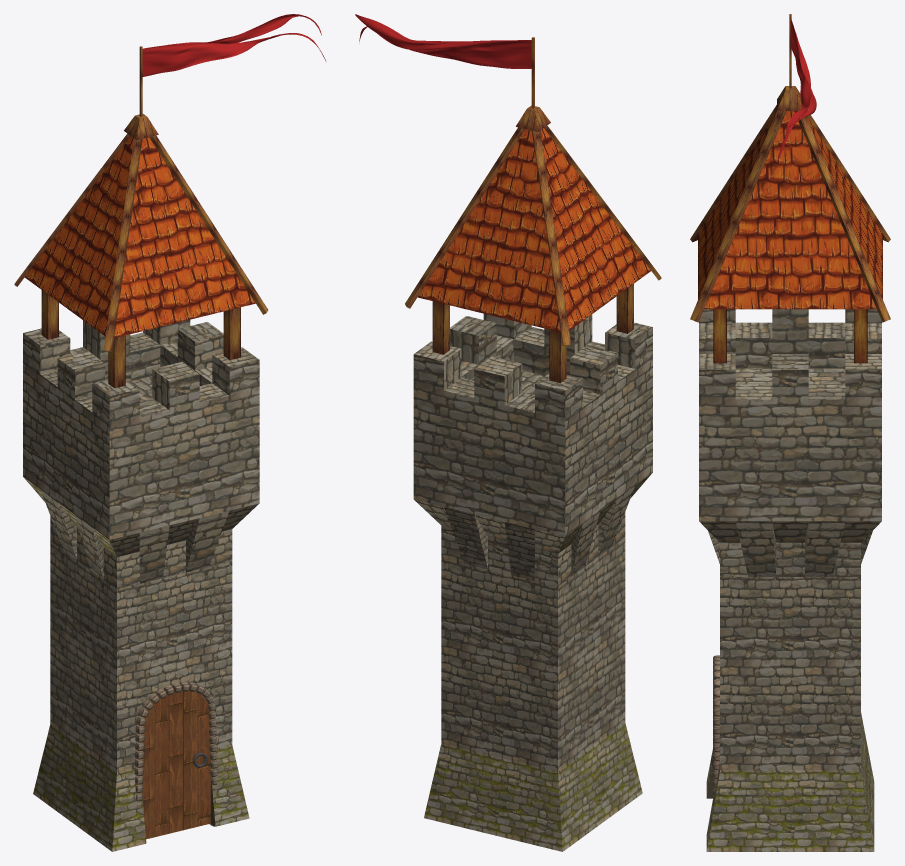
Rendered from tower.glb.
3 views of the same model, side by side, from view 1: azimuth 30°, elevation 25°; view 2: azimuth 150°, elevation 25°; view 3: azimuth 270°, elevation 25° (orthographic). The views are drawn at different scales.
Visible parts, largest first — view 1: Cube; view 2: Cube; view 3: Cube.
Part boxes in pixels (x1,y1,x2,y2): Cube: (14,14,326,851); Cube: (355,14,661,851); Cube: (690,14,890,851).
Size of the model in its own units: 3.81 by 10.62 by 2.4.
Materials: 9 (6 with a texture image).
